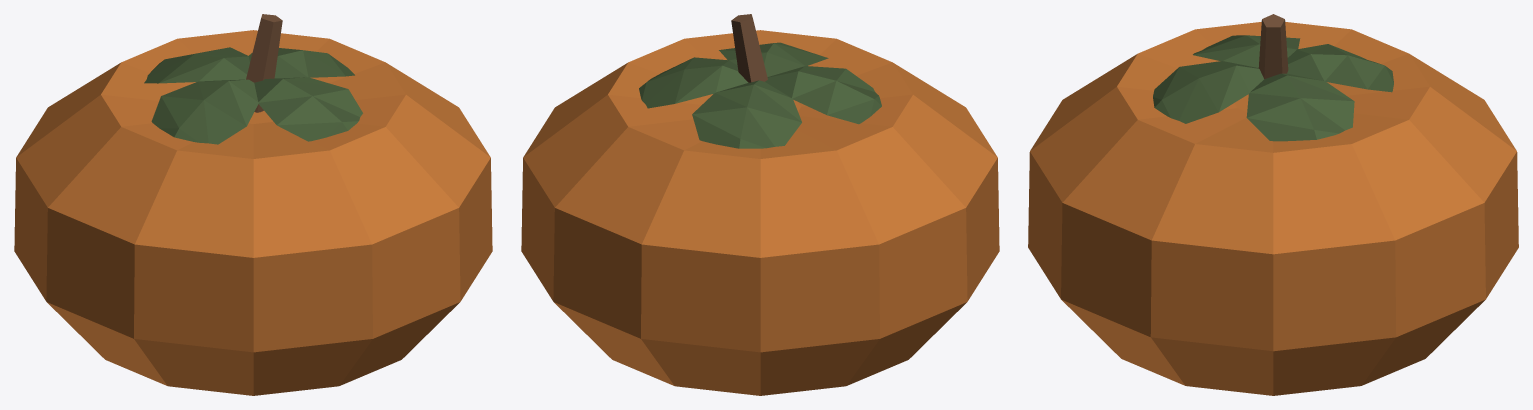
File: persimmon.glb
3 renders of one model, left to right at view 1: azimuth 30°, elevation 25°; view 2: azimuth 150°, elevation 25°; view 3: azimuth 270°, elevation 25°, orthographic. The views are drawn at different scales.
Parts seen in each view (by area): view 1: item; view 2: item; view 3: item.
Part boxes in pixels (left/top/right/bottom): item: left=14, top=14, right=492, bottom=395; item: left=521, top=14, right=999, bottom=395; item: left=1028, top=14, right=1518, bottom=395.
Size of the model in its own units: 0.282 by 0.2225 by 0.282.
